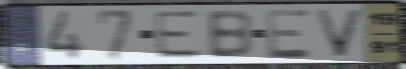4: (43, 9, 86, 61)
7: (94, 8, 135, 63)
B: (204, 8, 256, 61)
E: (263, 8, 314, 61), (151, 10, 204, 61)
V: (312, 8, 367, 59)
